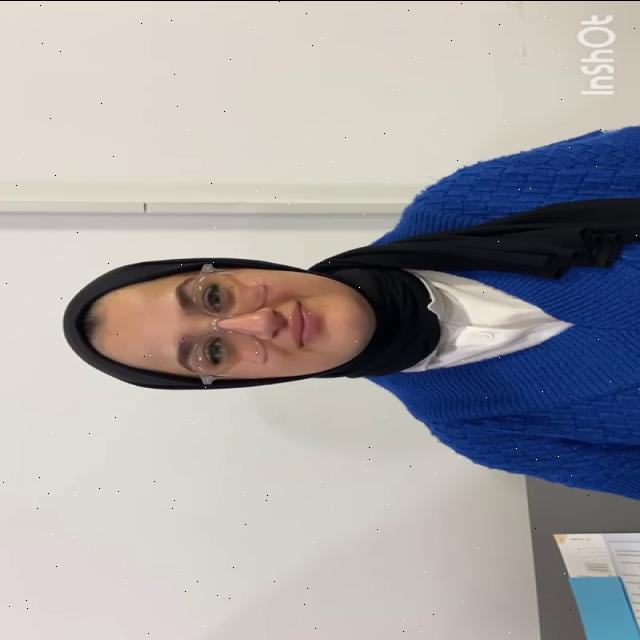happy: (89, 269, 361, 377)
